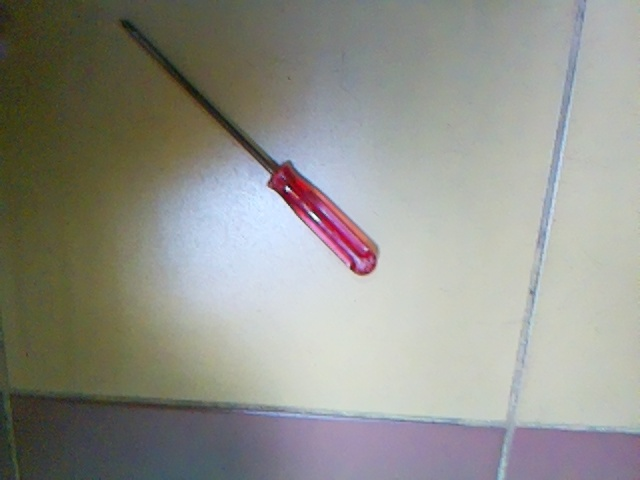redskrew: (113, 13, 388, 291)
